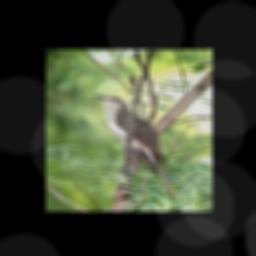Cuckoo: (95, 94, 179, 205)
